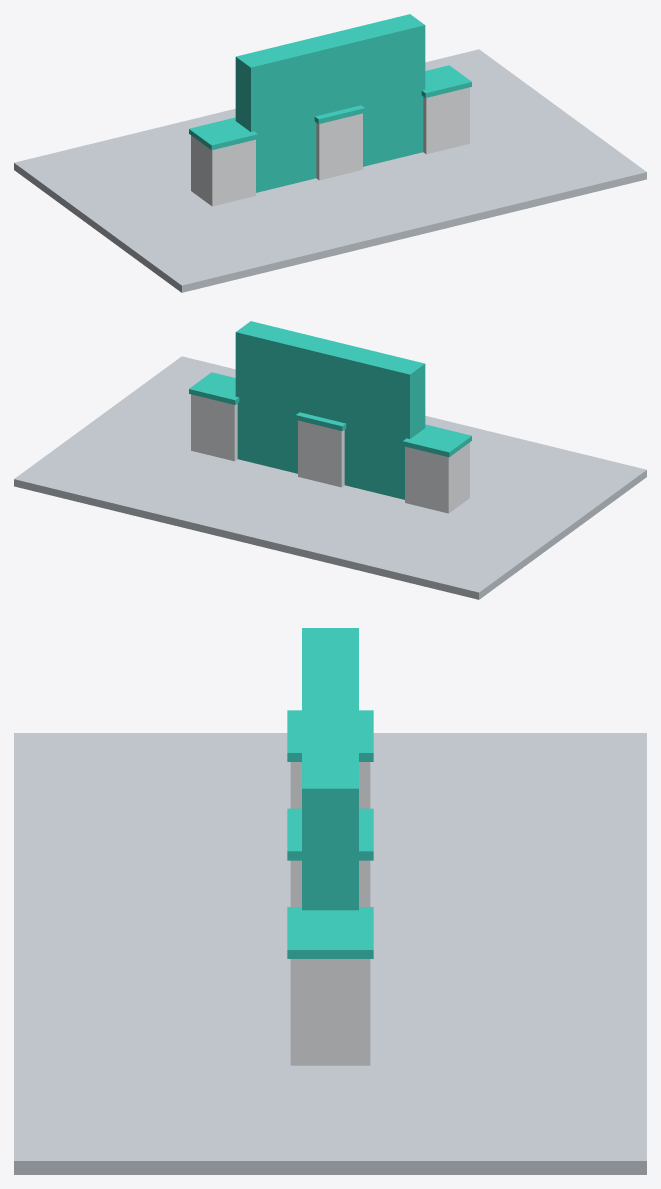
3 renders of one model, top to bottom at view 1: azimuth 30°, elevation 25°; view 2: azimuth 150°, elevation 25°; view 3: azimuth 270°, elevation 25°, orthographic. The views are drawn at different scales.
Visible parts, largest first — view 1: Exhibition Booth Concept; view 2: Exhibition Booth Concept; view 3: Exhibition Booth Concept.
Boxes of the visible parts, x1=… form: Exhibition Booth Concept: x1=14, y1=14, x2=646, y2=292; Exhibition Booth Concept: x1=14, y1=321, x2=646, y2=599; Exhibition Booth Concept: x1=14, y1=628, x2=646, y2=1174.
Size of the model in its own units: 8 by 2.2 by 5.
